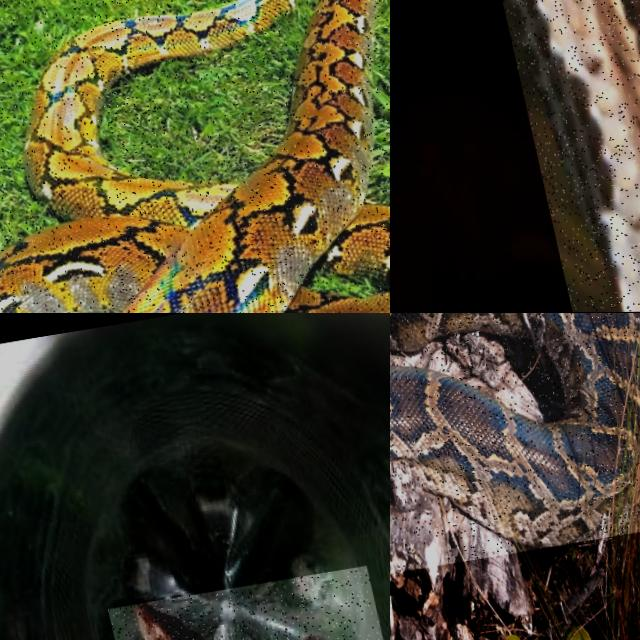Calloselasma rhodostoma: (136, 604, 200, 639)
Malayopython reticulatus: (0, 0, 389, 312)
Naja siamensis: (511, 0, 639, 311)
Python bivittatus: (390, 313, 639, 545)
